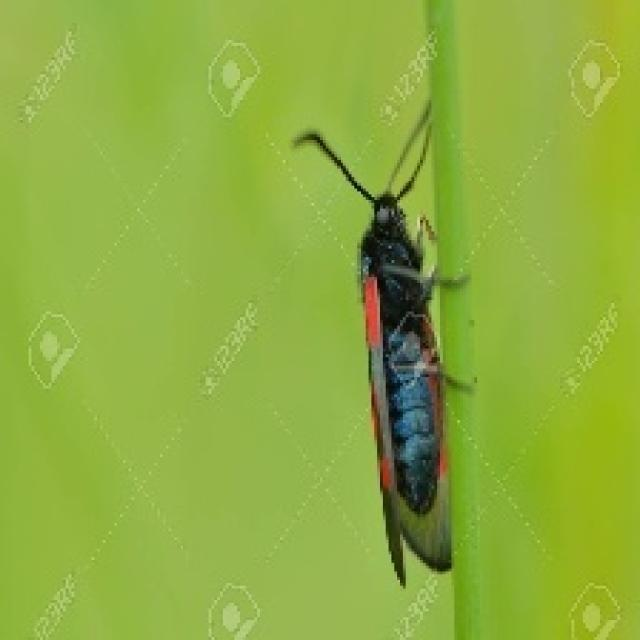butterfly: (288, 97, 472, 586)
